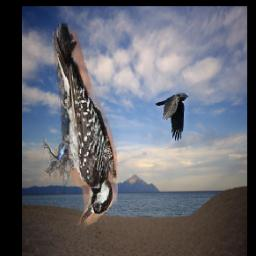Crow: (157, 94, 189, 142)
Woodpecker: (35, 23, 121, 229)
